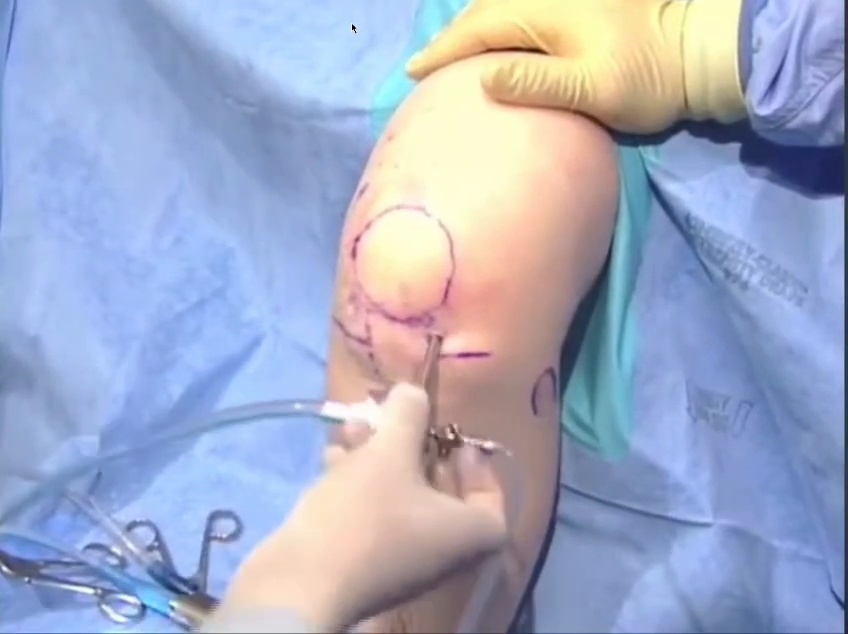arthroscope: (270, 175, 402, 473), (620, 0, 848, 161)
probe: (730, 153, 848, 616), (642, 164, 805, 330), (23, 232, 120, 462), (97, 132, 190, 256)
